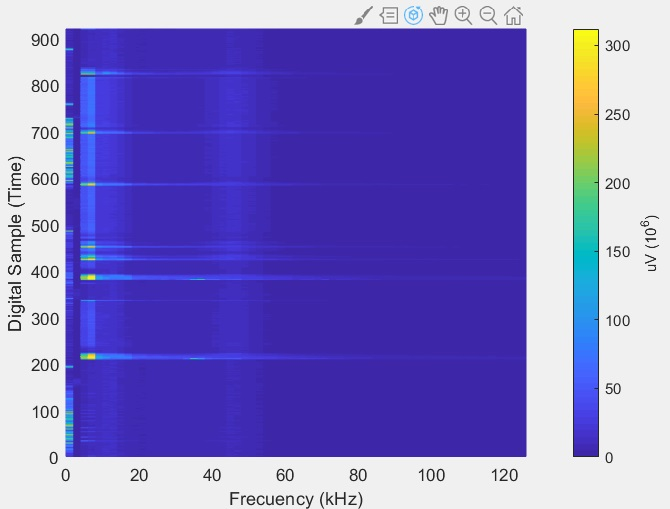leak: (73, 76, 130, 128), (74, 188, 132, 239), (80, 297, 138, 344), (73, 137, 129, 180)
